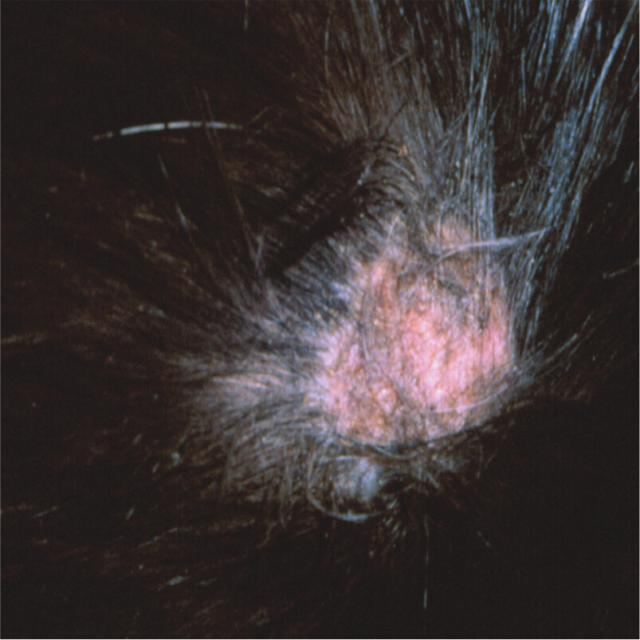hac lao: (205, 172, 590, 533)
